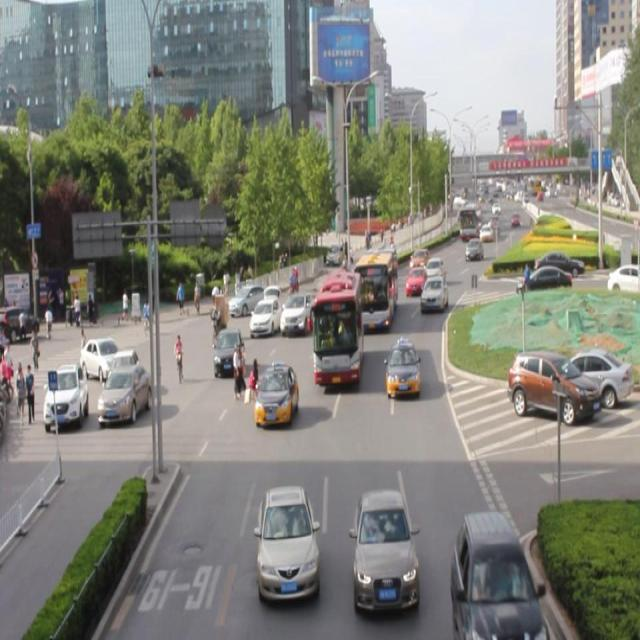car: (451, 508, 541, 640), (353, 486, 418, 607), (258, 485, 315, 596), (256, 362, 298, 426), (386, 339, 420, 396), (280, 286, 315, 336), (213, 325, 247, 373), (249, 293, 282, 334), (421, 274, 447, 310), (406, 264, 427, 295), (424, 253, 443, 286), (409, 245, 428, 275)
van: (314, 269, 360, 382), (355, 249, 396, 326)
